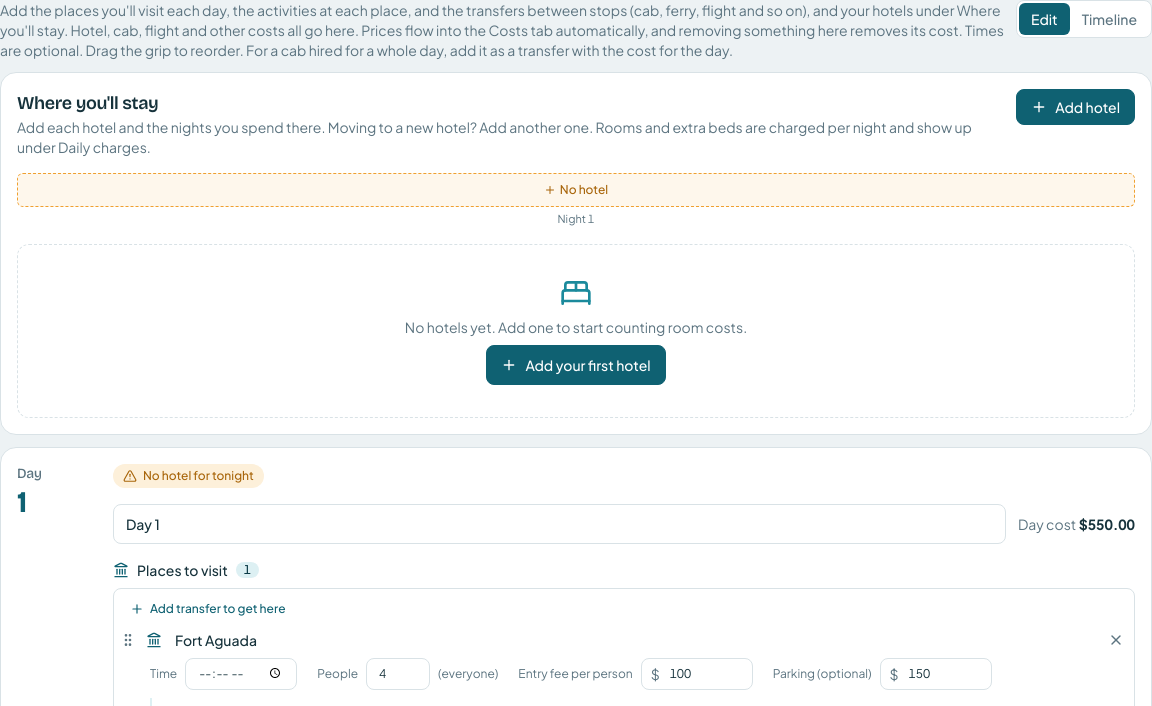
Test case: Parking › shows on the timeline and in the PDF report
This screenshot has width=1152, height=706.
Click the button "timeline". click: (1109, 19)
box: [1070, 3, 1149, 35]
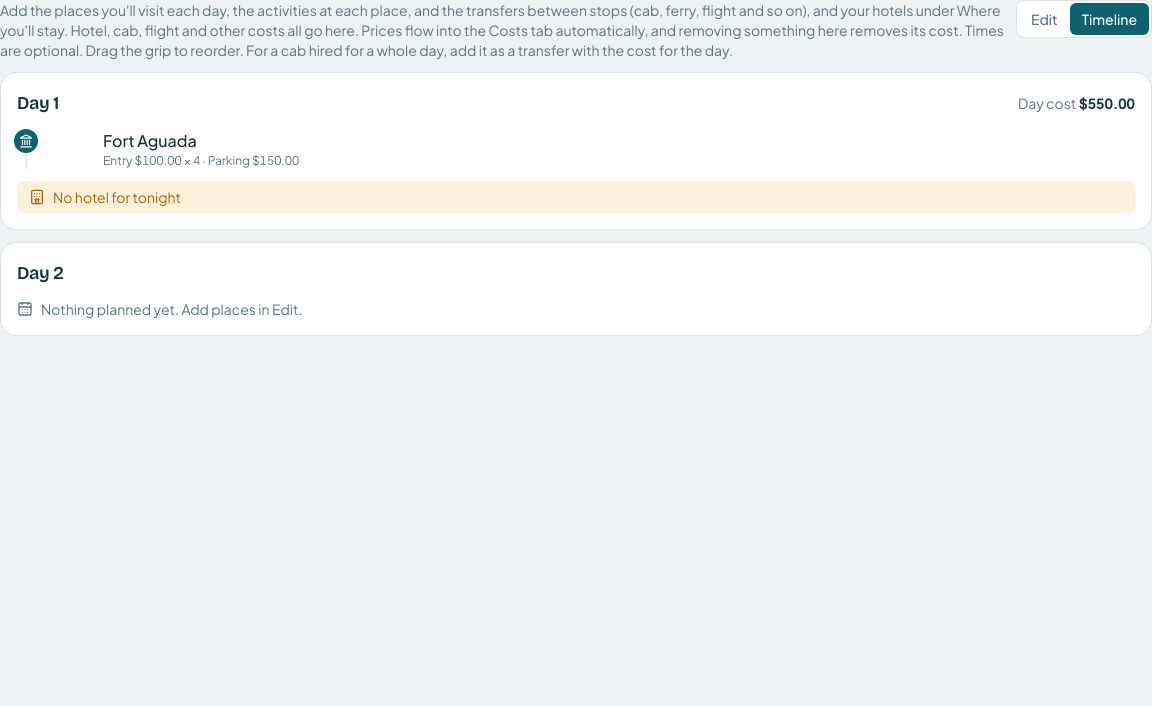
Now the element with test id "stop-1-0" shows "Parking $150.00", box [200, 153, 299, 168]
